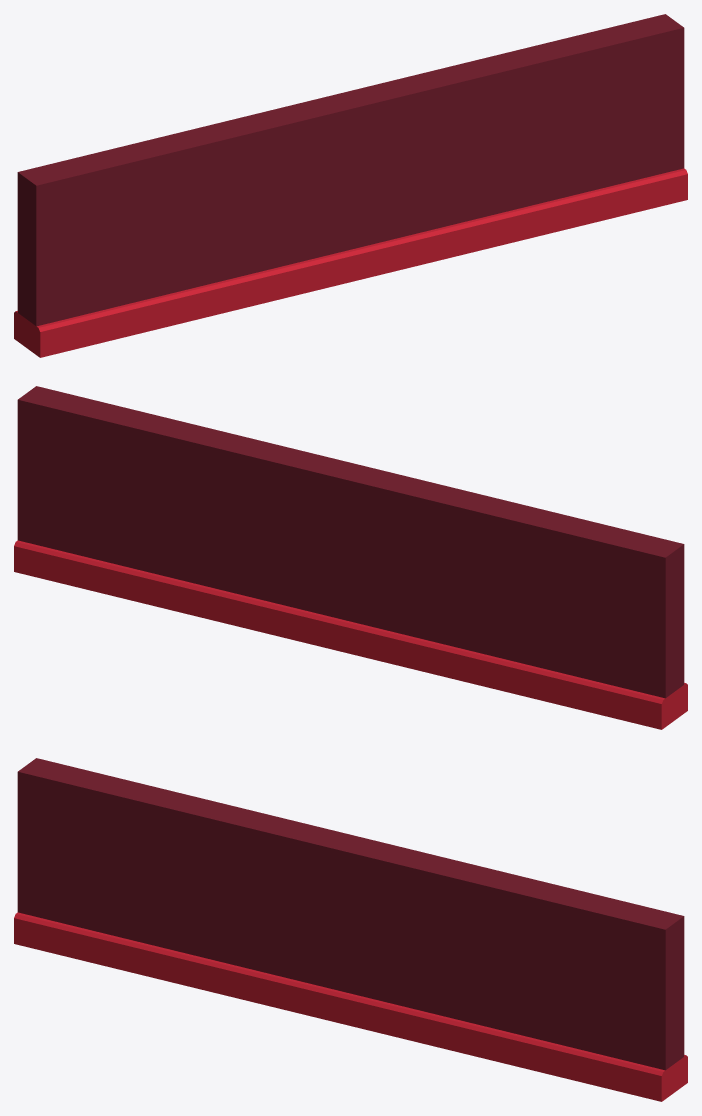
File: Wall_Bottom.fbx
The picture shows the model from 3 angles, top to bottom: view 1: azimuth 30°, elevation 25°; view 2: azimuth 150°, elevation 25°; view 3: azimuth 330°, elevation 25°; orthographic projection.
Parts seen in each view (by area): view 1: wall_bottom_001_msh; view 2: wall_bottom_001_msh; view 3: wall_bottom_001_msh.
Boxes of the visible parts, x1,y1,x2,y2 form: wall_bottom_001_msh: (14,14,687,357); wall_bottom_001_msh: (14,386,687,729); wall_bottom_001_msh: (14,758,687,1101).
Bounding box in the file's own units: 400 × 100 × 28.
